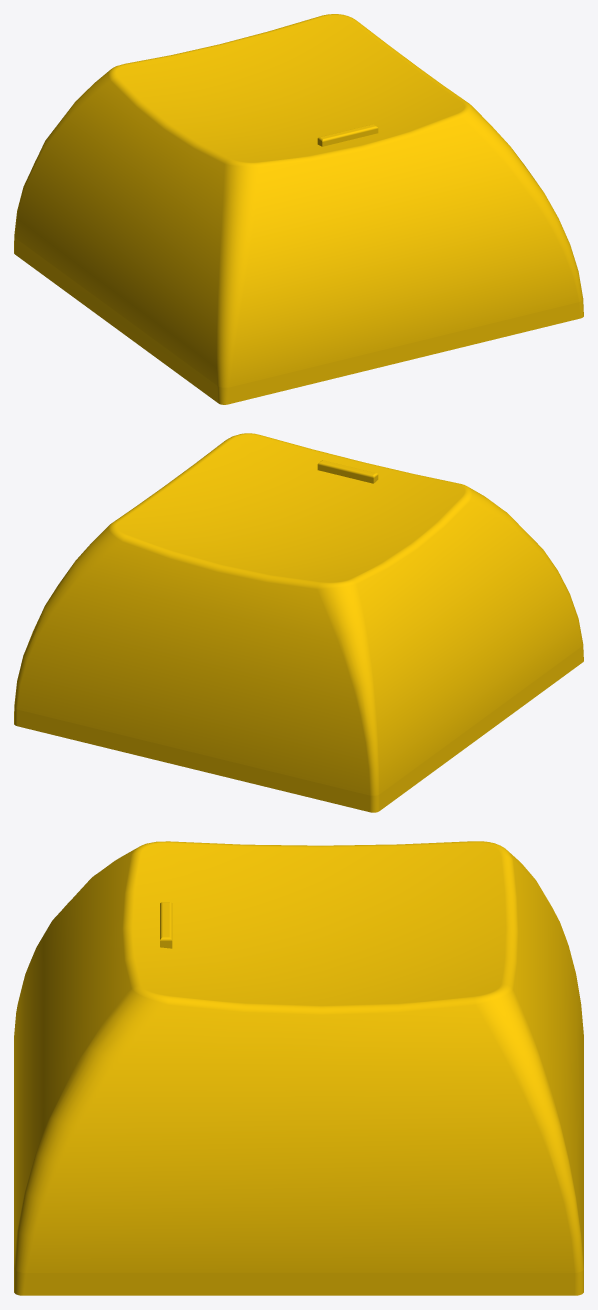
Rendered from KAT_1u_r3_nub.glb.
3 views of the same model, one above another, from view 1: azimuth 30°, elevation 25°; view 2: azimuth 150°, elevation 25°; view 3: azimuth 270°, elevation 25° (orthographic). The views are drawn at different scales.
Parts seen in each view (by area): view 1: Object.027; view 2: Object.027; view 3: Object.027.
Boxes of the visible parts, x1,y1,x2,y2 form: Object.027: (14,14,583,404); Object.027: (14,433,583,812); Object.027: (14,841,583,1295).
Bounding box in the file's own units: 18.2 × 9.06 × 18.2.
